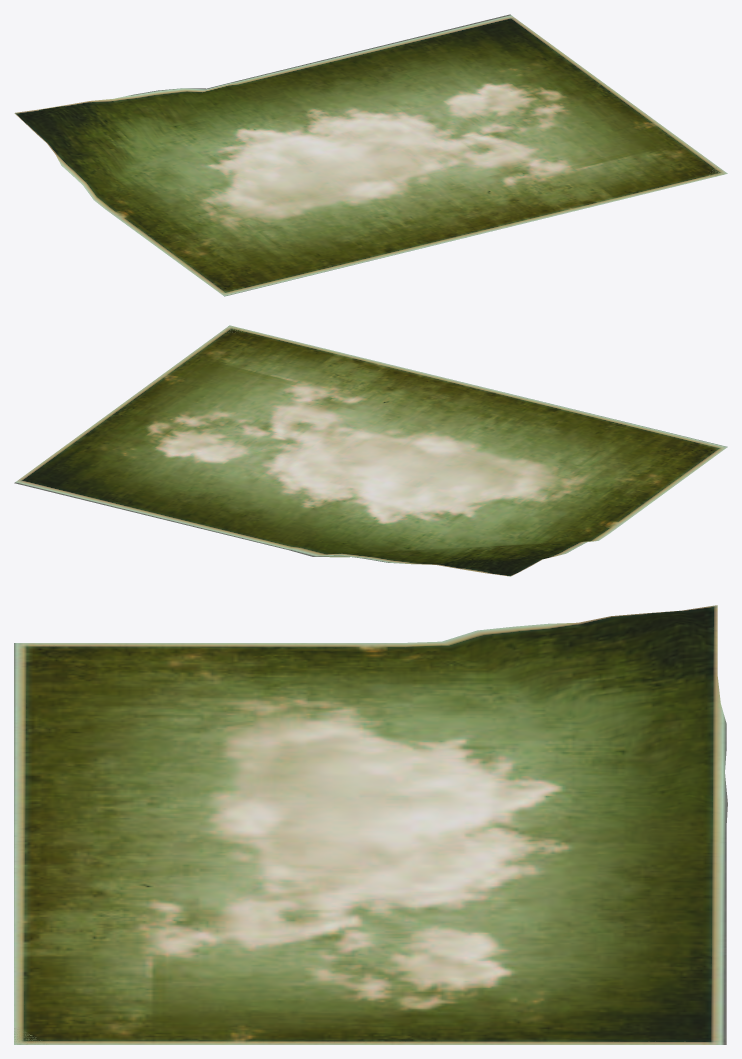
The model's file is photo.fbx.
3 views of the same model, one above another, from view 1: azimuth 30°, elevation 25°; view 2: azimuth 150°, elevation 25°; view 3: azimuth 270°, elevation 25° (orthographic). The views are drawn at different scales.
Parts seen in each view (by area): view 1: pPlane3; view 2: pPlane3; view 3: pPlane3.
Boxes of the visible parts, x1,y1,x2,y2 form: pPlane3: [14, 14, 727, 296]; pPlane3: [14, 325, 727, 576]; pPlane3: [14, 605, 727, 1044].
Size of the model in its own units: 3.96 by 0.2174 by 2.98.
Materials: 2 (2 with a texture image).
